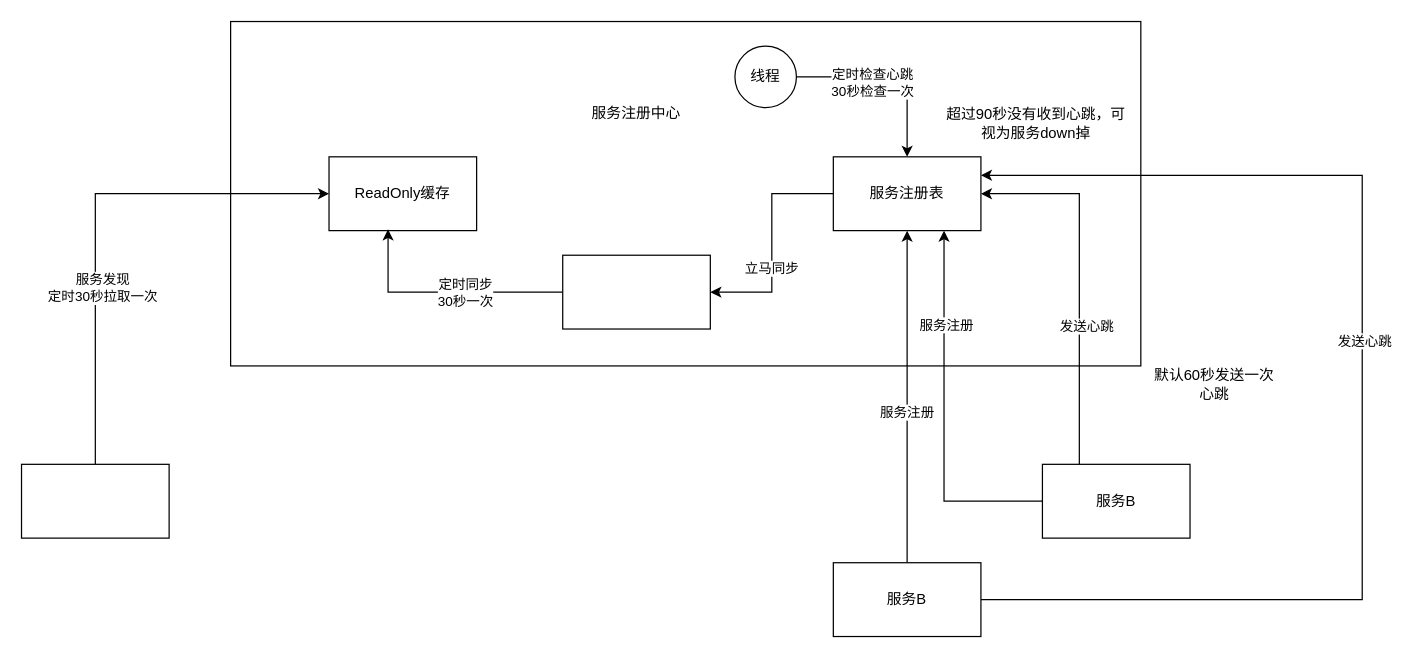
Image size: 1412x658. Some labels were removed from this diagram. Here are the shapes that lost their labels. From the top down, the centre of each, then its label:
At (x=635, y=291): "writeRead缓存".
At (x=94, y=500): "服务A".
